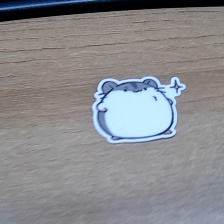mouse: (90, 73, 189, 146)
